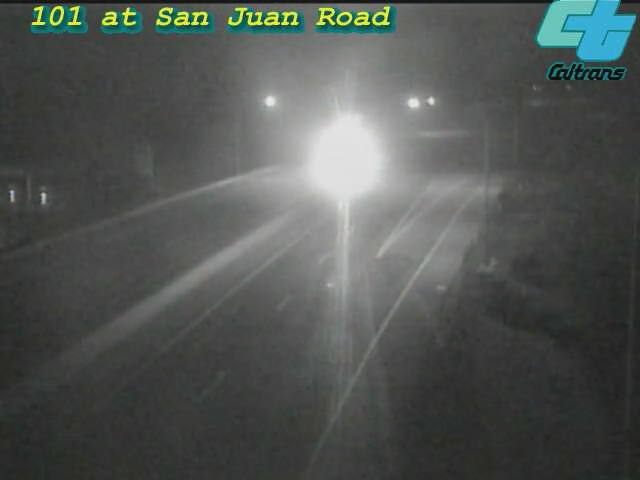vehicle: (306, 130, 356, 180)
